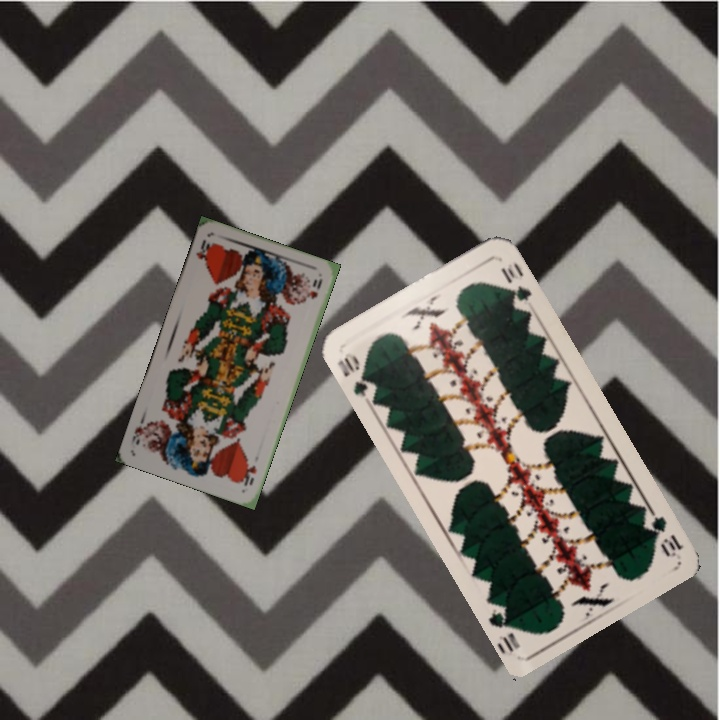G10: (639, 505, 687, 560), (333, 348, 375, 400)
HO: (192, 236, 215, 268), (239, 460, 259, 488)
